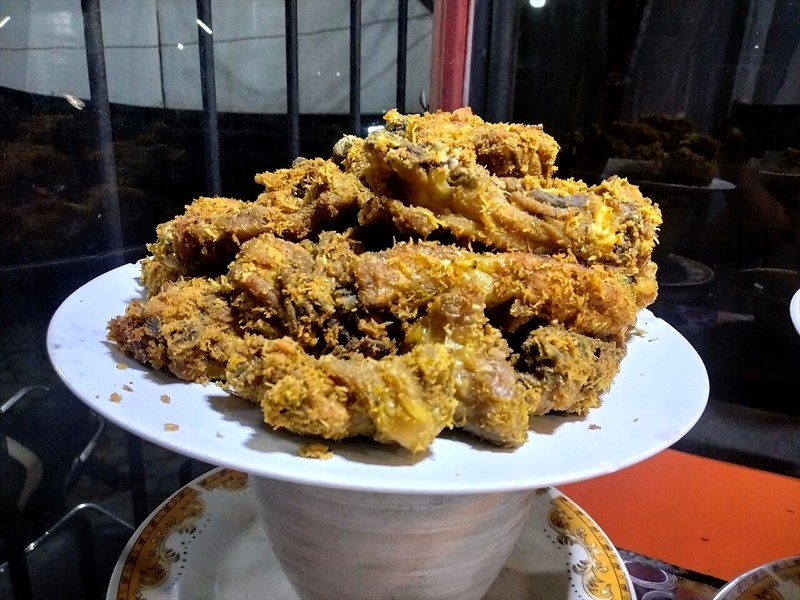Ayam Goreng: (97, 114, 673, 501)
